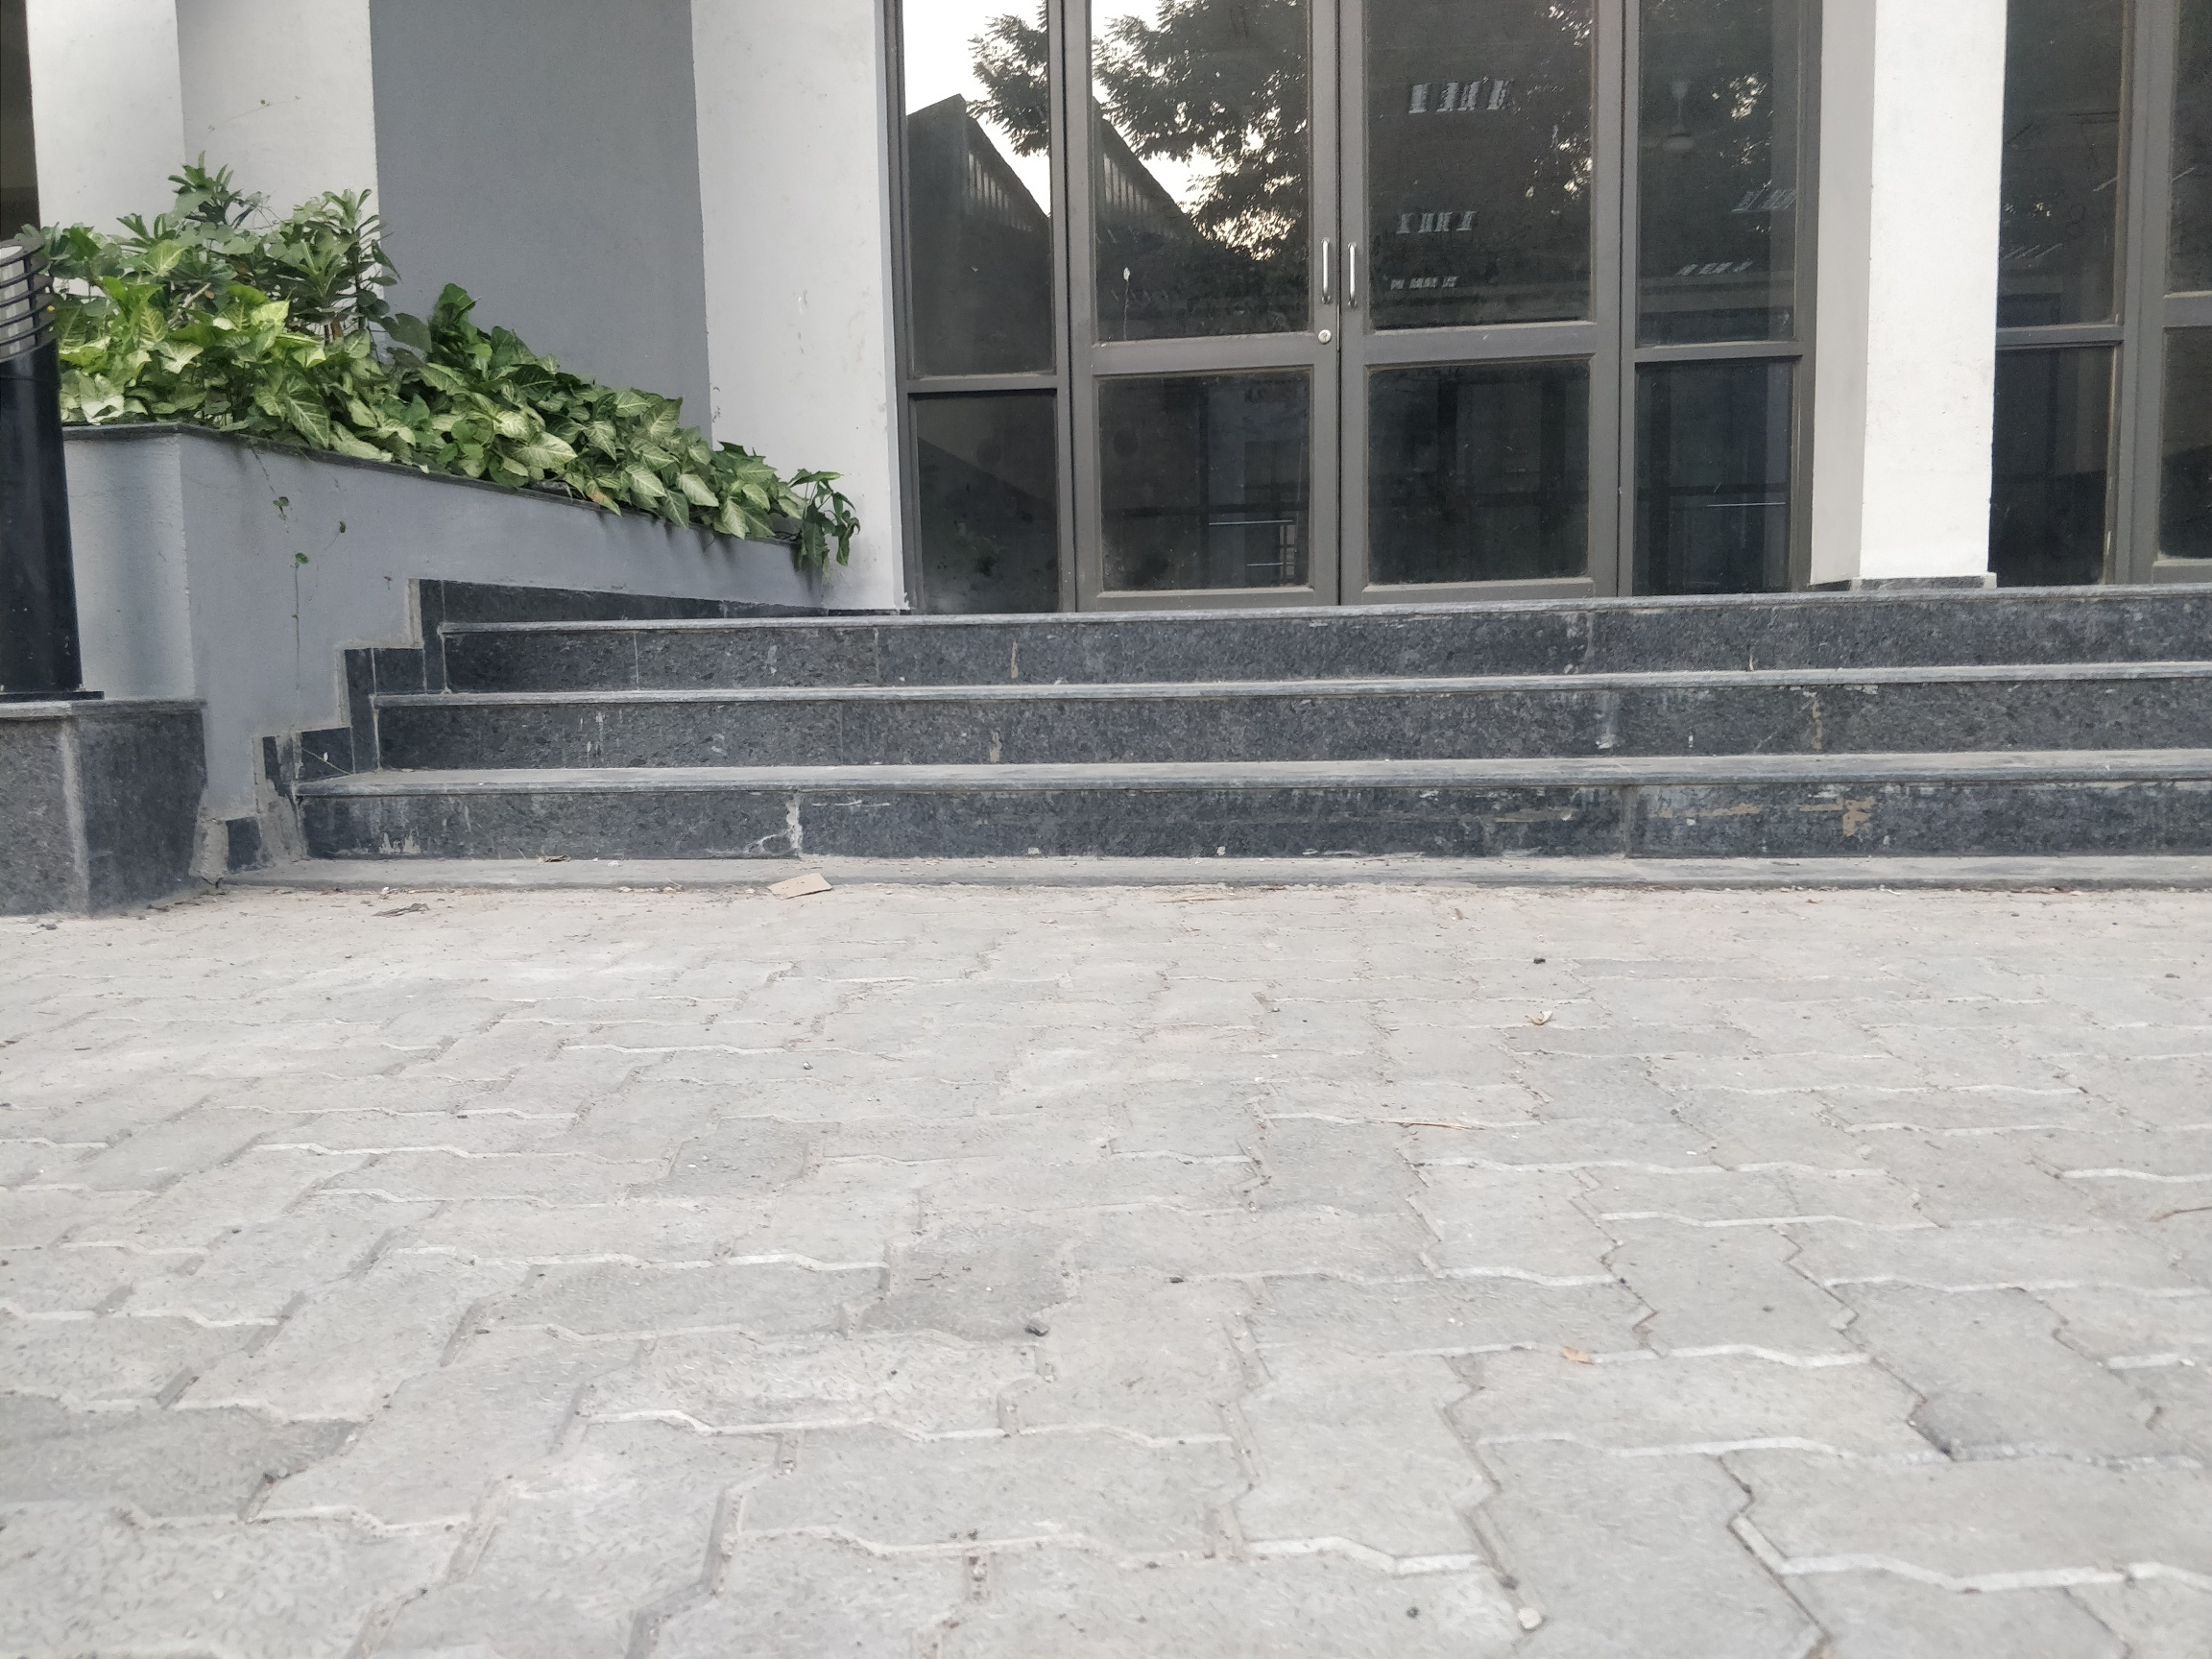stairs_up: (329, 605, 2212, 882)
